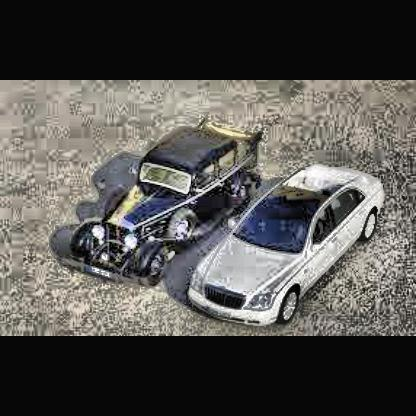Maybach Landaulet Convertible 2012: (182, 166, 390, 331)
